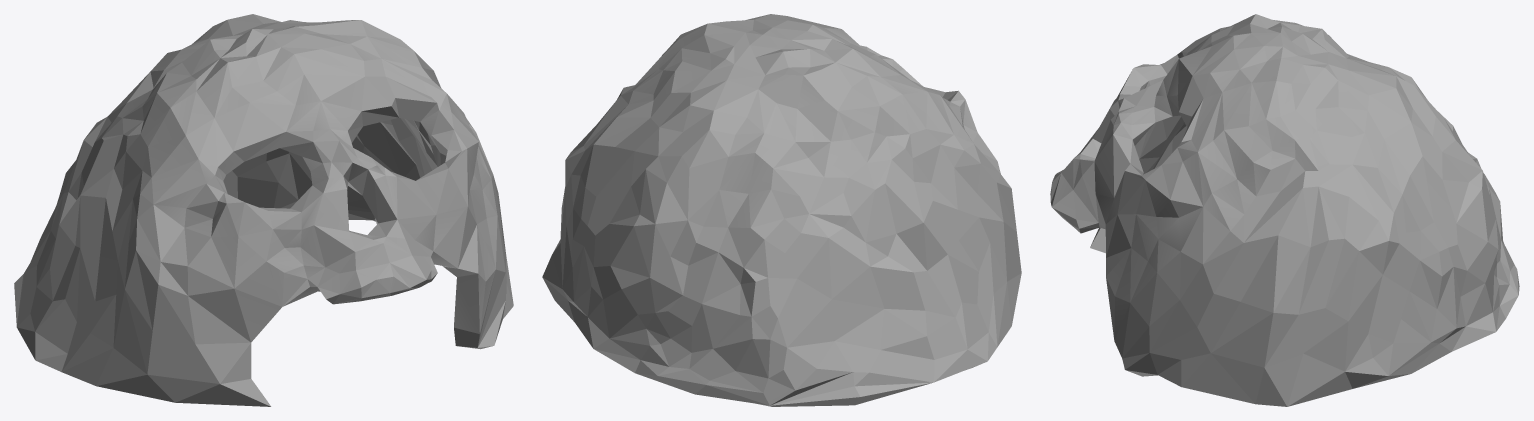
File: cave_skull.glb
3 views of the same model, side by side, from view 1: azimuth 30°, elevation 25°; view 2: azimuth 150°, elevation 25°; view 3: azimuth 270°, elevation 25° (orthographic). The views are drawn at different scales.
Visible parts, largest first — view 1: PP_Cave_Skull_01; view 2: PP_Cave_Skull_01; view 3: PP_Cave_Skull_01.
Boxes of the visible parts, x1,y1,x2,y2 form: PP_Cave_Skull_01: [14, 14, 513, 406]; PP_Cave_Skull_01: [542, 14, 1021, 406]; PP_Cave_Skull_01: [1050, 14, 1519, 406].
Bounding box in the file's own units: 14.13 × 8.8 × 13.4.
1 material, 1 textured.
